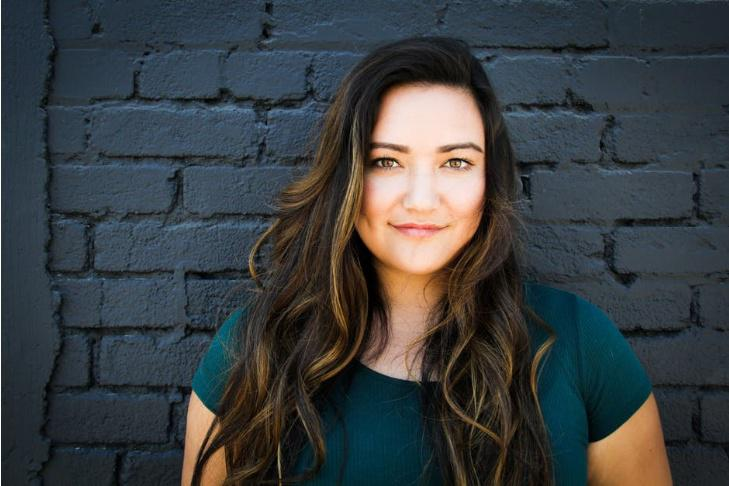face: (352, 82, 487, 273)
